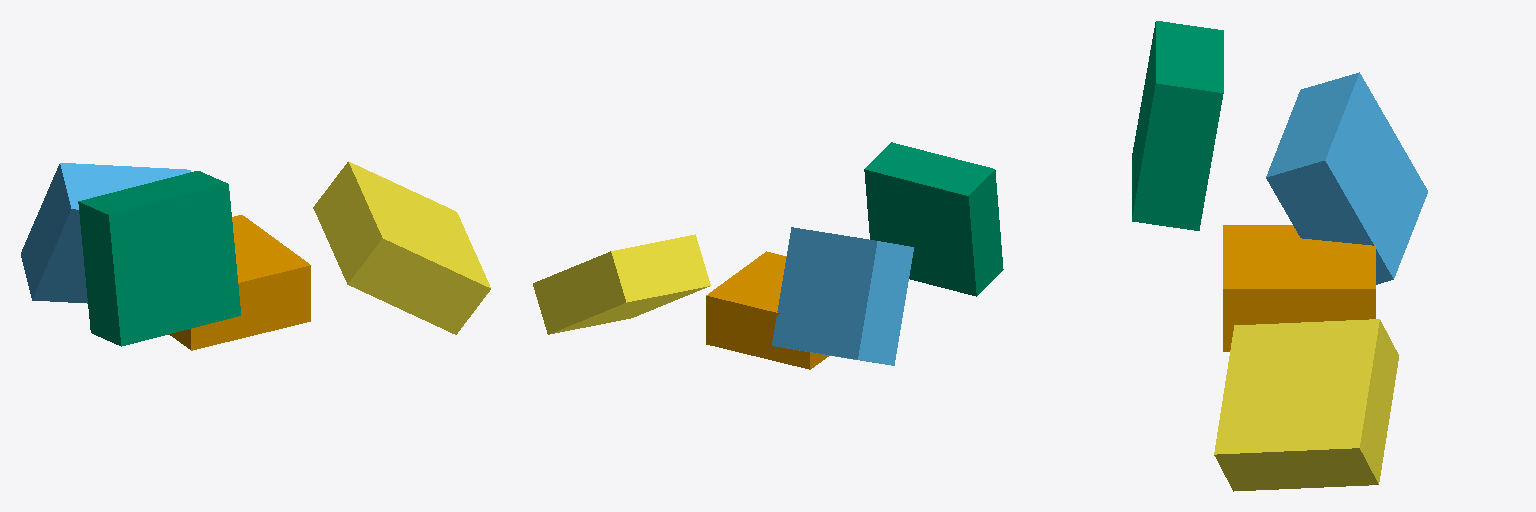
The robot description file, URDF, robot "Model_0":
<?xml version='1.0' encoding='UTF-8'?>
<robot name="Model_0">
  <link name="base_link">
    <inertial>
      <origin xyz="0.0 0.0 0.0" rpy="0.0 -0.0 0.0"/>
      <mass value="1.0"/>
      <inertia ixx="1.0" ixy="0.0" ixz="0.0" iyy="1.0" iyz="0.0" izz="1.0"/>
    </inertial>
    <visual>
      <geometry>
        <box size="0.67 0.67 0.3 "/>
      </geometry>
      <origin xyz="0.0 0.0 0.0" rpy="0.0 -0.0 0.0"/>
    </visual>
    <collision>
      <geometry>
        <box size="0.67 0.67 0.3 "/>
      </geometry>
      <origin xyz="0.0 0.0 0.0" rpy="0.0 0.0 0.0"/>
    </collision>
  </link>
  <link name="arm0">
    <inertial>
      <origin xyz="-0.23962245465850546 0.16118611972039165 0.08914217060350729" rpy="-0.131626540186478 0.5977905434181807 0.623364993355384"/>
      <mass value="1.0"/>
      <inertia ixx="0.0" ixy="0.0" ixz="0.0" iyy="0.0" iyz="0.0" izz="0.0"/>
    </inertial>
    <visual>
      <geometry>
        <box size="0.67 0.67 0.3 "/>
      </geometry>
      <origin xyz="-0.23962245465850546 0.16118611972039165 0.08914217060350729" rpy="-0.131626540186478 0.5977905434181807 0.623364993355384"/>
    </visual>
    <collision>
      <geometry>
        <box size="0.67 0.67 0.3 "/>
      </geometry>
      <origin xyz="-0.23962245465850546 0.16118611972039165 0.08914217060350729" rpy="-0.131626540186478 0.5977905434181807 0.623364993355384"/>
    </collision>
  </link>
  <link name="arm1">
    <inertial>
      <origin xyz="-0.48577845263135877 -0.2603335781079717 0.03175687028137891" rpy="-0.5552420975678576 0.780094912903942 0.37035079411214866"/>
      <mass value="1.0"/>
      <inertia ixx="0.0" ixy="0.0" ixz="0.0" iyy="0.0" iyz="0.0" izz="0.0"/>
    </inertial>
    <visual>
      <geometry>
        <box size="0.67 0.67 0.3 "/>
      </geometry>
      <origin xyz="-0.48577845263135877 -0.2603335781079717 0.03175687028137891" rpy="-0.5552420975678576 0.780094912903942 0.37035079411214866"/>
    </visual>
    <collision>
      <geometry>
        <box size="0.67 0.67 0.3 "/>
      </geometry>
      <origin xyz="-0.48577845263135877 -0.2603335781079717 0.03175687028137891" rpy="-0.5552420975678576 0.780094912903942 0.37035079411214866"/>
    </collision>
  </link>
  <link name="arm2">
    <inertial>
      <origin xyz="0.5257023431479391 0.2628003519493224 0.055301354689715254" rpy="-0.24685561912169776 0.2281973628126297 -0.9005807136670474"/>
      <mass value="1.0"/>
      <inertia ixx="0.0" ixy="0.0" ixz="0.0" iyy="0.0" iyz="0.0" izz="0.0"/>
    </inertial>
    <visual>
      <geometry>
        <box size="0.67 0.67 0.3 "/>
      </geometry>
      <origin xyz="0.5257023431479391 0.2628003519493224 0.055301354689715254" rpy="-0.24685561912169776 0.2281973628126297 -0.9005807136670474"/>
    </visual>
    <collision>
      <geometry>
        <box size="0.67 0.67 0.3 "/>
      </geometry>
      <origin xyz="0.5257023431479391 0.2628003519493224 0.055301354689715254" rpy="-0.24685561912169776 0.2281973628126297 -0.9005807136670474"/>
    </collision>
  </link>
  <joint name="0" type="revolute">
    <limit effort="1.0" velocity="1.0" lower="-1.0" upper="1.0"/>
    <parent link="base_link"/>
    <child link="arm0"/>
    <axis xyz="1. 0. 0."/>
    <origin xyz="-0.23962245465850546 0.16118611972039165 0.08914217060350729" rpy="-0.131626540186478 0.5977905434181807 0.623364993355384"/>
  </joint>
  <joint name="1" type="revolute">
    <limit effort="1.0" velocity="1.0" lower="-1.0" upper="1.0"/>
    <parent link="base_link"/>
    <child link="arm1"/>
    <axis xyz="1. 0. 0."/>
    <origin xyz="-0.48577845263135877 -0.2603335781079717 0.03175687028137891" rpy="-0.5552420975678576 0.780094912903942 0.37035079411214866"/>
  </joint>
  <joint name="2" type="revolute">
    <limit effort="1.0" velocity="1.0" lower="-1.0" upper="1.0"/>
    <parent link="base_link"/>
    <child link="arm2"/>
    <axis xyz="1. 0. 0."/>
    <origin xyz="0.5257023431479391 0.2628003519493224 0.055301354689715254" rpy="-0.24685561912169776 0.2281973628126297 -0.9005807136670474"/>
  </joint>
</robot>

--- What the picture shows (computed from the rendered views, not written in the file) ---
Views: 3 orthographic renders of the robot side by side, from view 1: azimuth 30°, elevation 25°; view 2: azimuth 150°, elevation 25°; view 3: azimuth 270°, elevation 25°.
Robot: Model_0 — 4 links, 3 joints (3 revolute); root link base_link; default pose: all joints at 0.
Visible links, largest first — view 1: arm1, arm2, arm0, base_link; view 2: arm1, arm0, arm2, base_link; view 3: arm2, arm0, arm1, base_link.
Boxes of the visible links, x1,y1,x2,y2 form: arm1: (78,171,240,346); arm2: (313,161,490,334); arm0: (21,163,190,303); base_link: (169,215,310,350); arm1: (864,142,1003,296); arm0: (772,227,913,365); arm2: (533,234,710,334); base_link: (706,251,828,369); arm2: (1214,319,1398,491); arm0: (1266,72,1427,284); arm1: (1132,21,1223,230); base_link: (1223,225,1375,351).
Size in the robot's own frame: 2.46 by 1.3 by 1.28 metres.
Geometry: primitives only (box / cylinder / sphere), no mesh files.